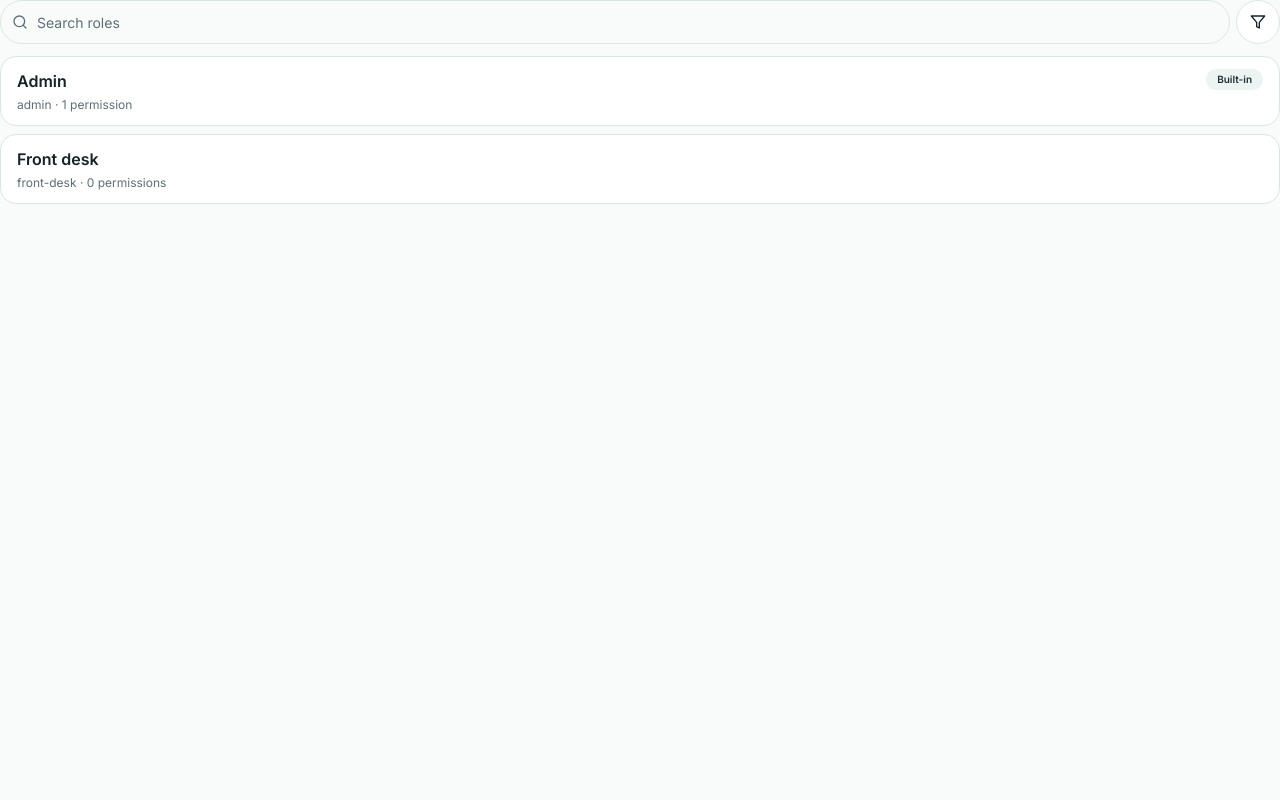
Test: roles › is read-only without crm.roles.update
Click the text "Front desk": (58, 159) [17,149,99,169]
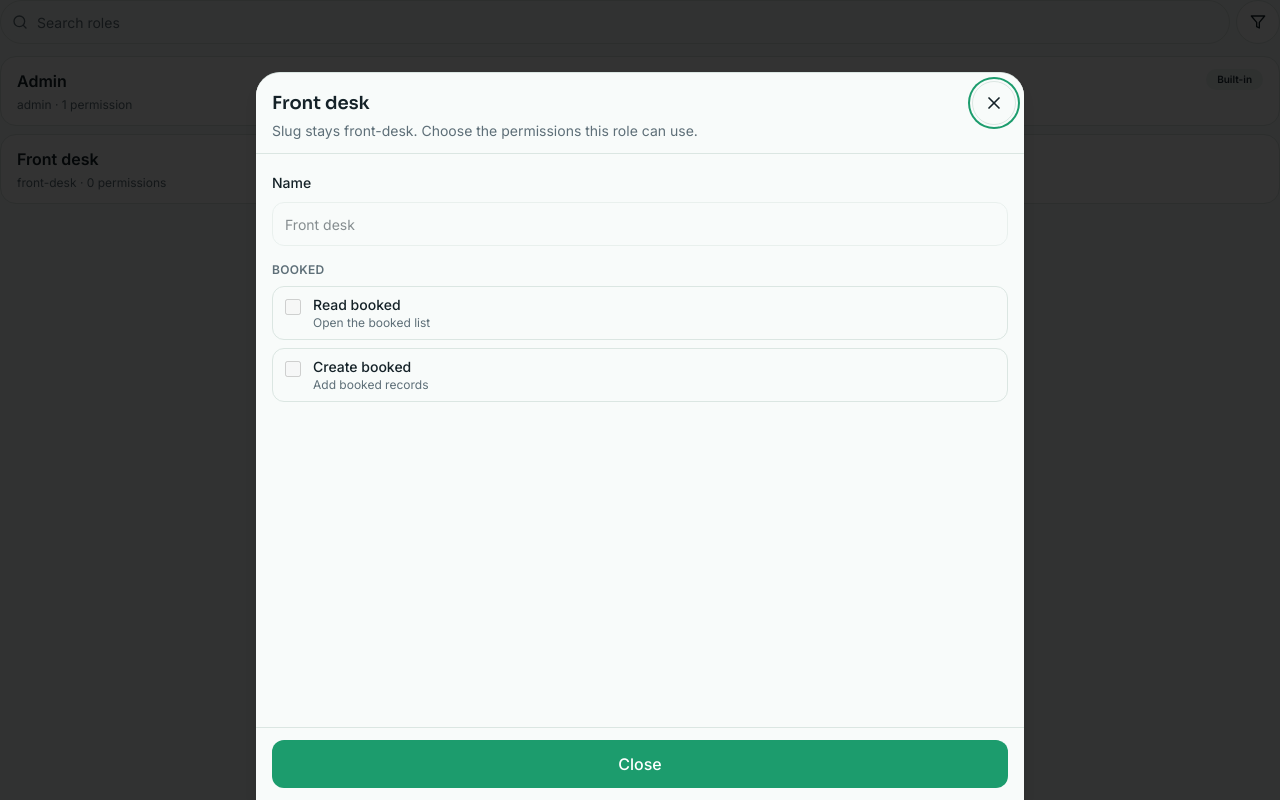
Expected: the field labelled "Name" is disabled, [272,202,1008,246]
